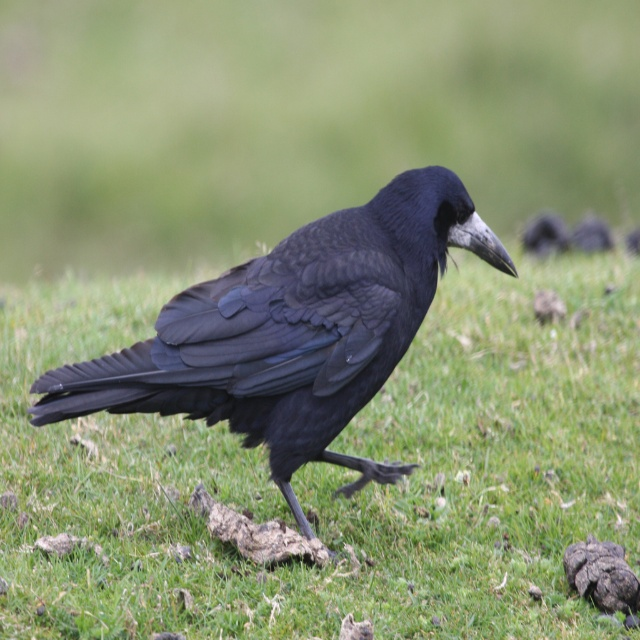Raven: (27, 164, 519, 540)
